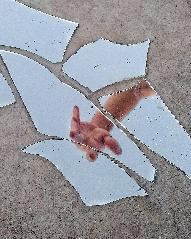glass: (0, 0, 191, 208)
